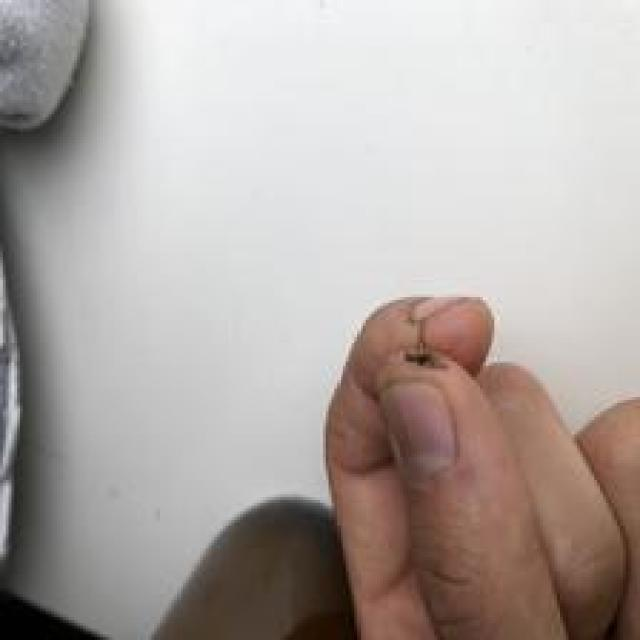Culex: (0, 0, 94, 640)
